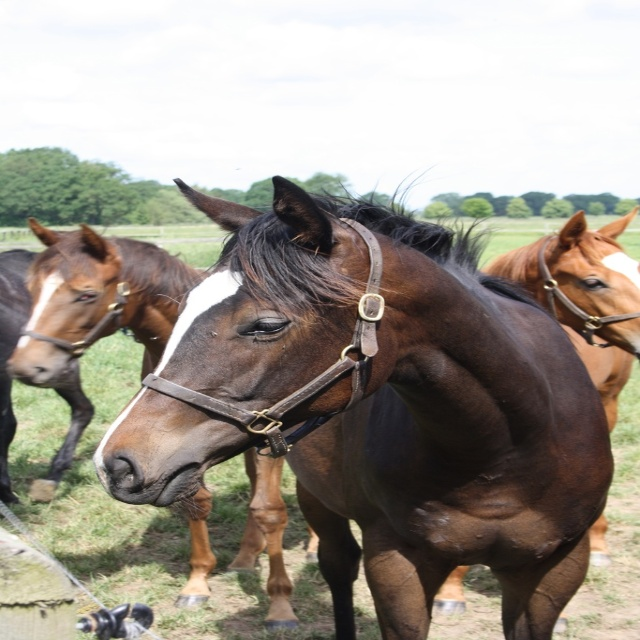Horse: (0, 163, 640, 640)
